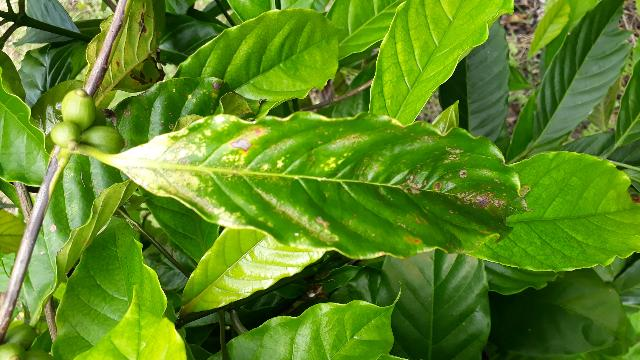rust_level_1: (114, 116, 534, 259)
